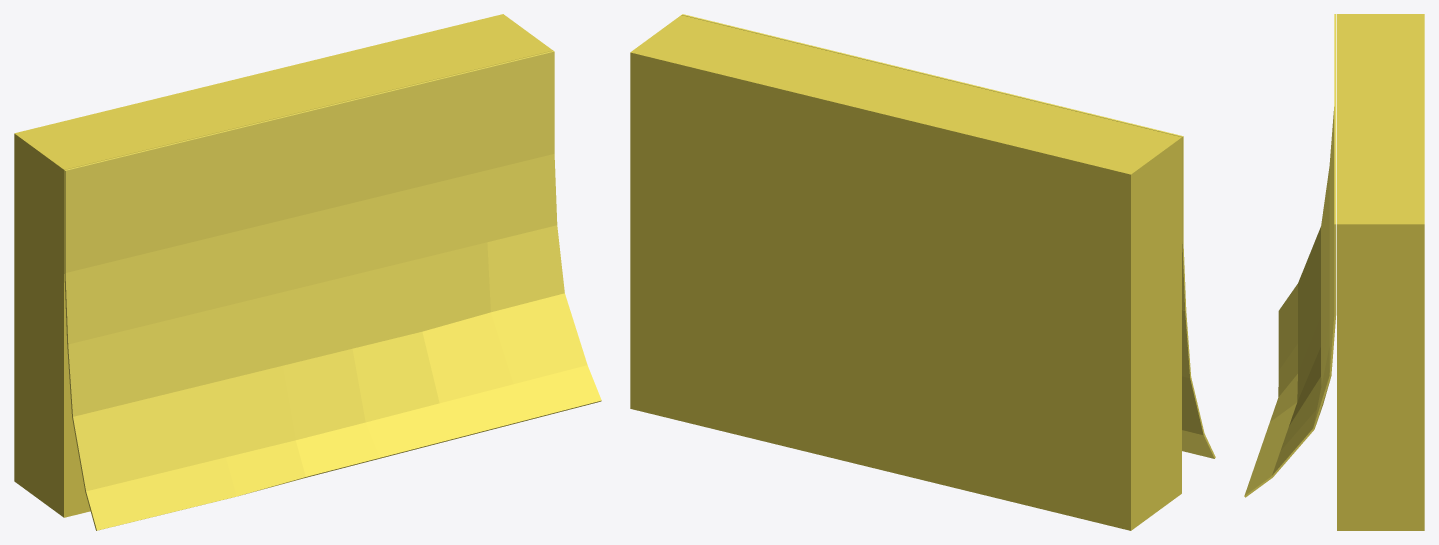
File: note.fbx
3 views of the same model, side by side, from view 1: azimuth 30°, elevation 25°; view 2: azimuth 150°, elevation 25°; view 3: azimuth 270°, elevation 25° (orthographic). The views are drawn at different scales.
Visible parts, largest first — view 1: Cube.003, Cube; view 2: Cube, Cube.003; view 3: Cube, Cube.003.
Boxes of the visible parts, x1,y1,x2,y2 form: Cube.003: (64,51,601,530); Cube: (14,14,553,517); Cube: (630,15,1181,530); Cube.003: (682,14,1215,458); Cube: (1337,14,1424,530); Cube.003: (1244,14,1336,497).
Size of the model in its own units: 294 by 200 by 107.
